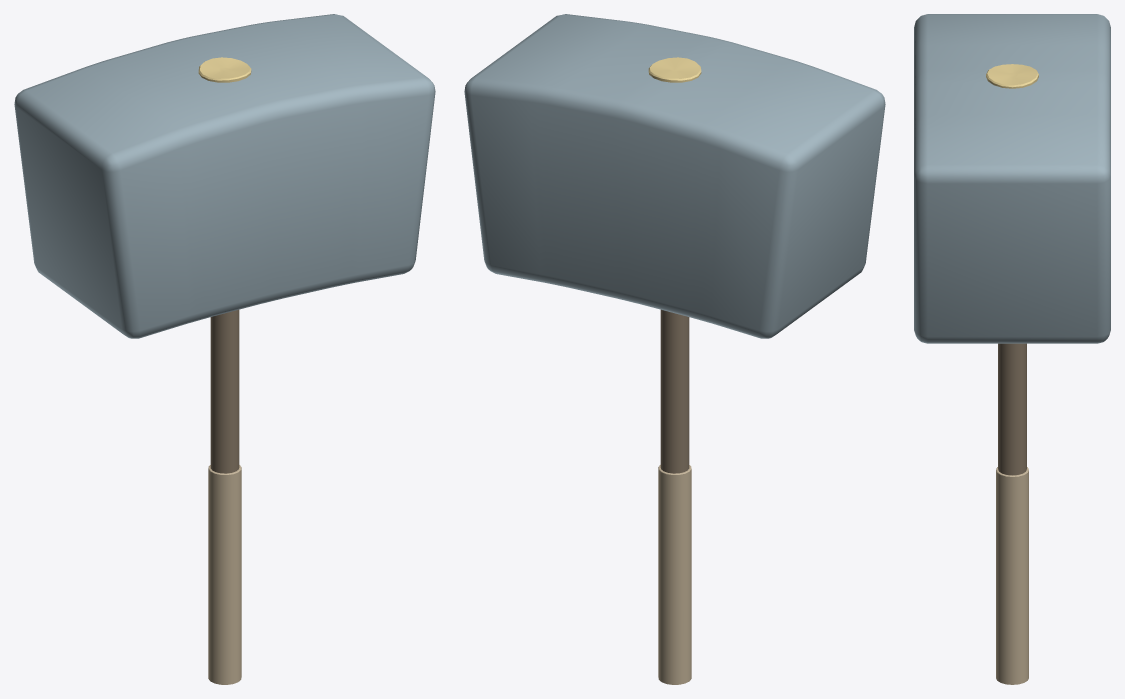
The model's file is Hammer_lp.fbx.
3 renders of one model, left to right at view 1: azimuth 30°, elevation 25°; view 2: azimuth 150°, elevation 25°; view 3: azimuth 270°, elevation 25°, orthographic.
Visible parts, largest first — view 1: hammerHead_lp, Cylinder, Circle; view 2: hammerHead_lp, Cylinder, Circle; view 3: hammerHead_lp, Cylinder, Circle.
Part boxes in pixels (x1,y1,x2,y2): hammerHead_lp: [14, 14, 435, 338]; Cylinder: [208, 309, 241, 684]; Circle: [198, 57, 251, 82]; hammerHead_lp: [464, 14, 885, 338]; Cylinder: [658, 309, 691, 684]; Circle: [648, 57, 701, 82]; hammerHead_lp: [914, 14, 1110, 343]; Cylinder: [996, 343, 1028, 684]; Circle: [986, 64, 1038, 88].
Size of the model in its own units: 375 by 658 by 194.
